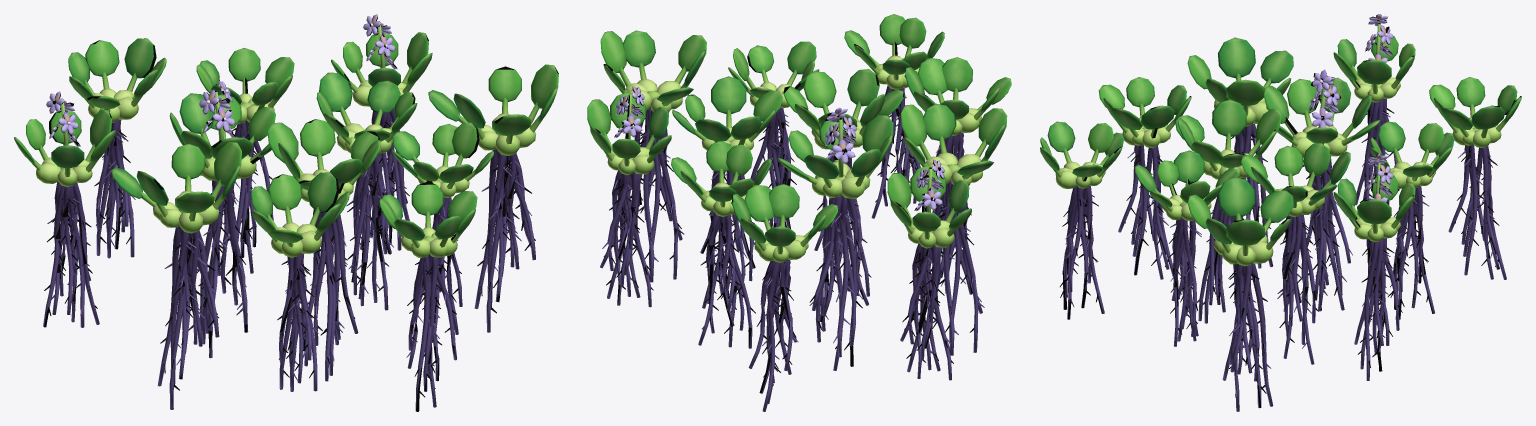
The model's file is water_hyacinth_tile.glb.
3 views of the same model, side by side, from view 1: azimuth 30°, elevation 25°; view 2: azimuth 150°, elevation 25°; view 3: azimuth 270°, elevation 25° (orthographic). The views are drawn at different scales.
Visible parts, largest first — view 1: HyacinthTile; view 2: HyacinthTile; view 3: HyacinthTile.
Part boxes in pixels (x1,y1,x2,y2): HyacinthTile: [14, 14, 558, 411]; HyacinthTile: [587, 14, 1011, 411]; HyacinthTile: [1040, 14, 1521, 411].
Bounding box in the file's own units: 5.82 × 3.28 × 5.83.
1 material, 1 textured.
